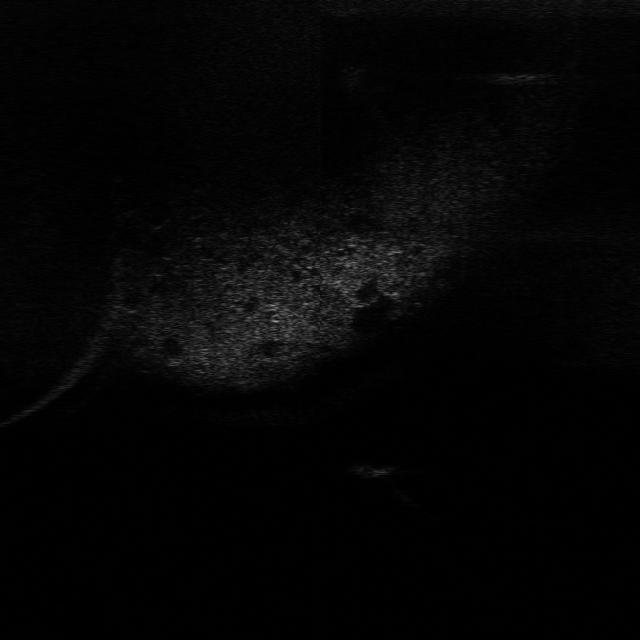cube: (340, 454, 404, 481)
